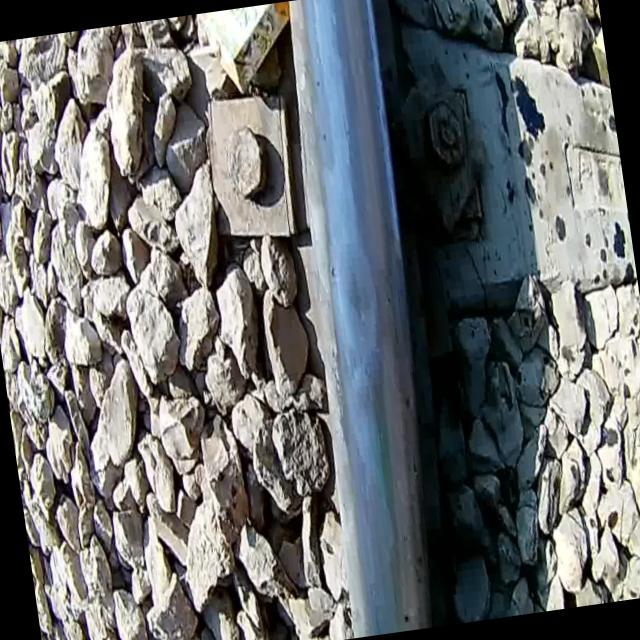Spallings: (323, 0, 459, 630)
Squats: (321, 218, 393, 381)
